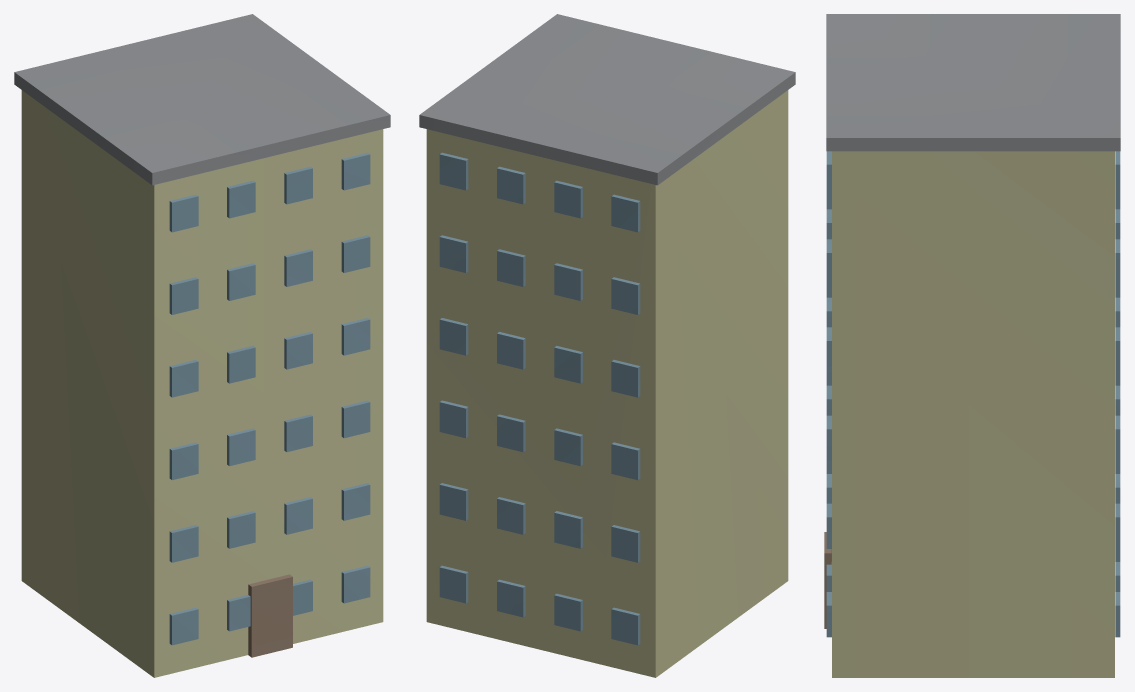
The model's file is apartment-03.glb.
The picture shows the model from 3 angles, left to right: view 1: azimuth 30°, elevation 25°; view 2: azimuth 150°, elevation 25°; view 3: azimuth 270°, elevation 25°; orthographic projection. The views are drawn at different scales.
Parts seen in each view (by area): view 1: world; view 2: world; view 3: world.
Boxes of the visible parts, x1=… form: world: x1=14, y1=14, x2=390, y2=677; world: x1=419, y1=14, x2=795, y2=677; world: x1=824, y1=14, x2=1120, y2=677.
Size of the model in its own units: 1.41 by 2.87 by 1.42.
